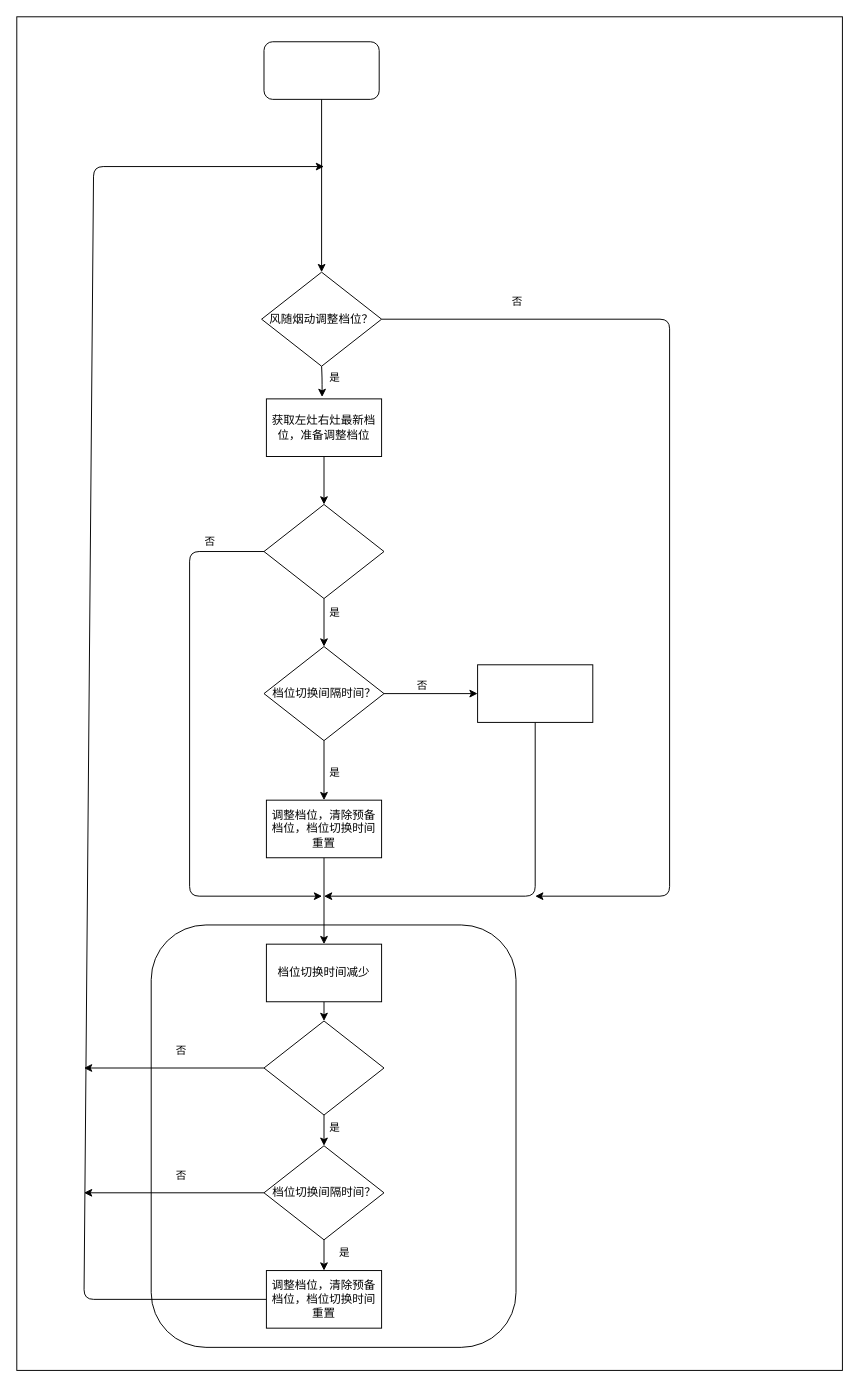
This 859x1387 diagram has some shape labels left out. The centre of each missing label's shape, as x and y in pixels:
"初始化" goes at point (321, 70).
"左右灶最大档位和当前档位不同？" goes at point (323, 551).
"生成预备档位" goes at point (535, 693).
"预备档位？" goes at point (323, 1067).
